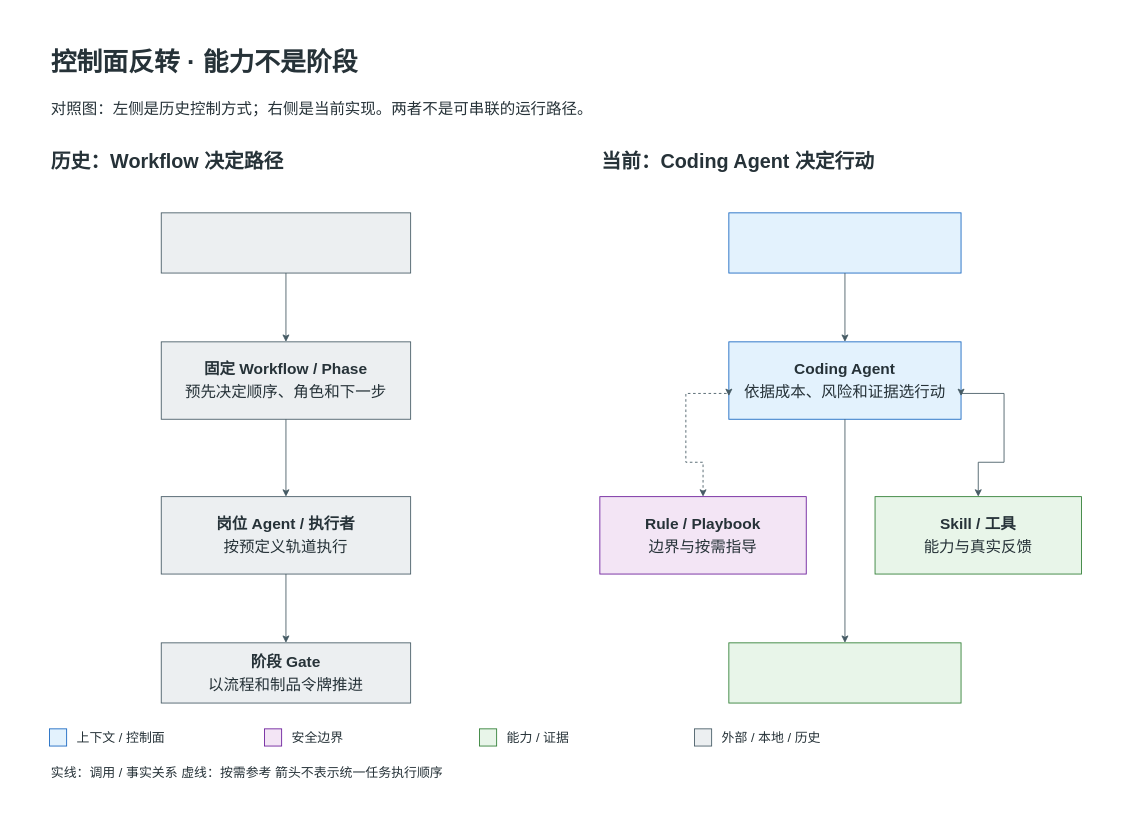
The diagram is 1130 pixels wide and 829 high, and some of its shapes have lost their labels. The centre of each missing label's shape, as x and y in pixels:
Evidence Contract 必要证据充分才完成: [844,672]
任务: [285,242]
目标与授权: [844,242]
